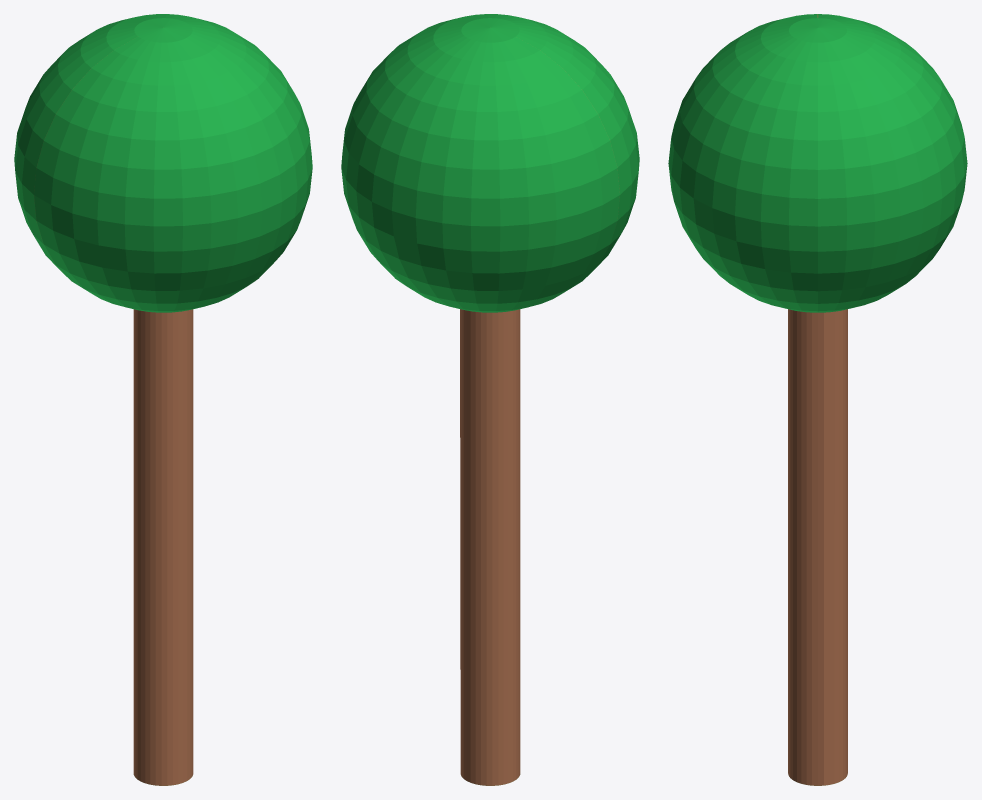
The model's file is Tree.obj.
The picture shows the model from 3 angles, left to right: view 1: azimuth 30°, elevation 25°; view 2: azimuth 150°, elevation 25°; view 3: azimuth 270°, elevation 25°; orthographic projection.
Parts seen in each view (by area): view 1: Sphere, Cylinder; view 2: Sphere, Cylinder; view 3: Sphere, Cylinder.
Boxes of the visible parts, <box> form: Sphere: <box>14,14,312,312</box>; Cylinder: <box>133,309,193,785</box>; Sphere: <box>341,14,639,312</box>; Cylinder: <box>460,309,520,785</box>; Sphere: <box>668,14,967,312</box>; Cylinder: <box>788,309,847,785</box>.
Size of the model in its own units: 2 by 5.5 by 2.
1 material, 1 textured.
